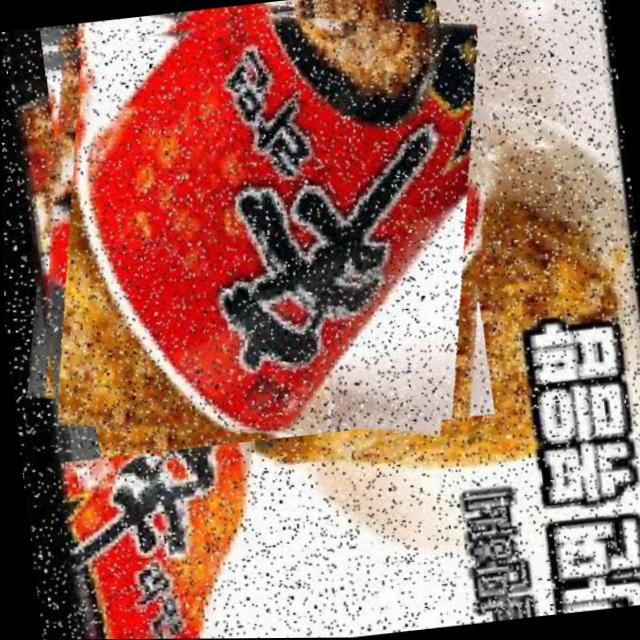Miscellaneous: (1, 0, 520, 463)
